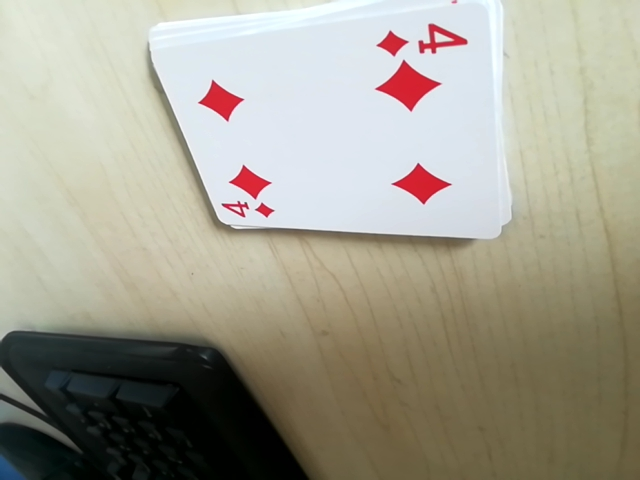fk 4: (378, 13, 476, 61), (214, 192, 278, 227)
